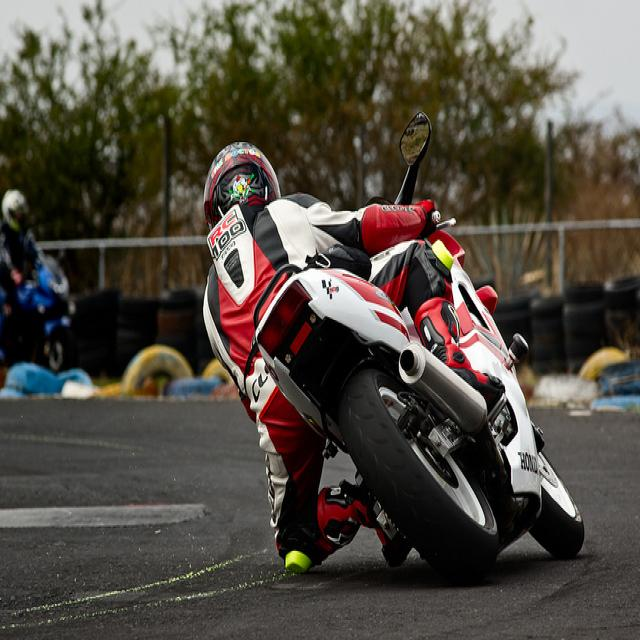motor: (247, 73, 586, 561), (3, 250, 75, 369)
